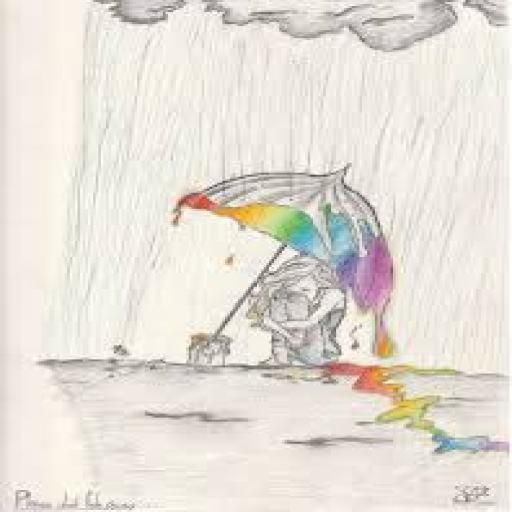person: (240, 253, 356, 376)
